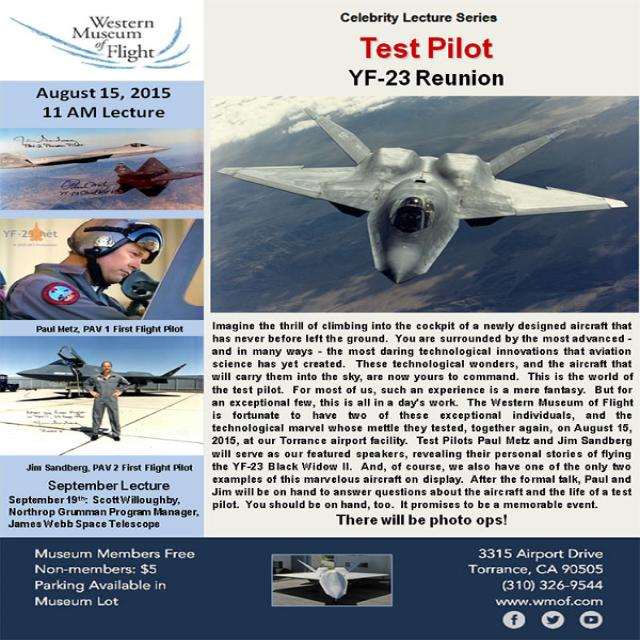MIL_Plane: (215, 106, 630, 285), (15, 344, 204, 399), (272, 557, 390, 602), (1, 142, 173, 170), (113, 156, 204, 199)
